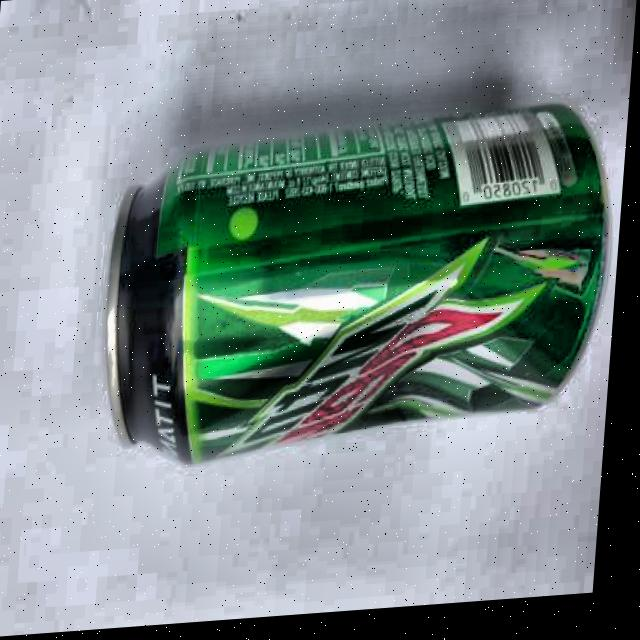metal: (93, 90, 622, 472)
